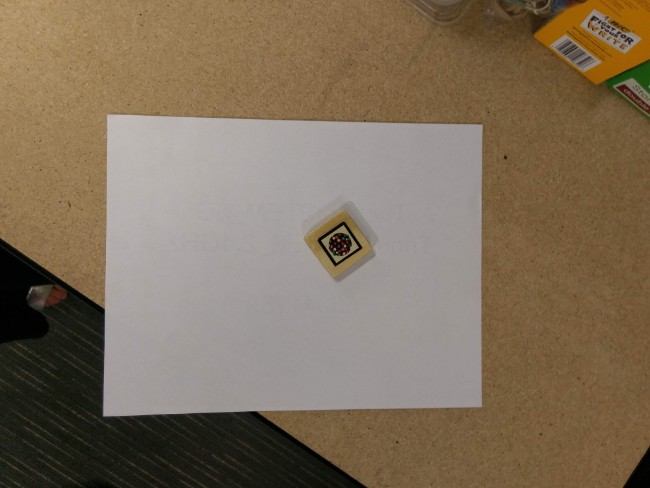cookie: (317, 221, 362, 264)
